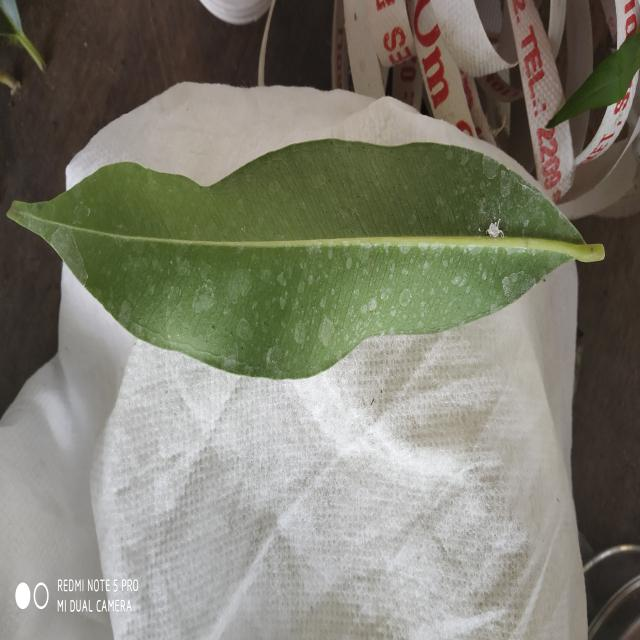nerale: (9, 133, 598, 378)
